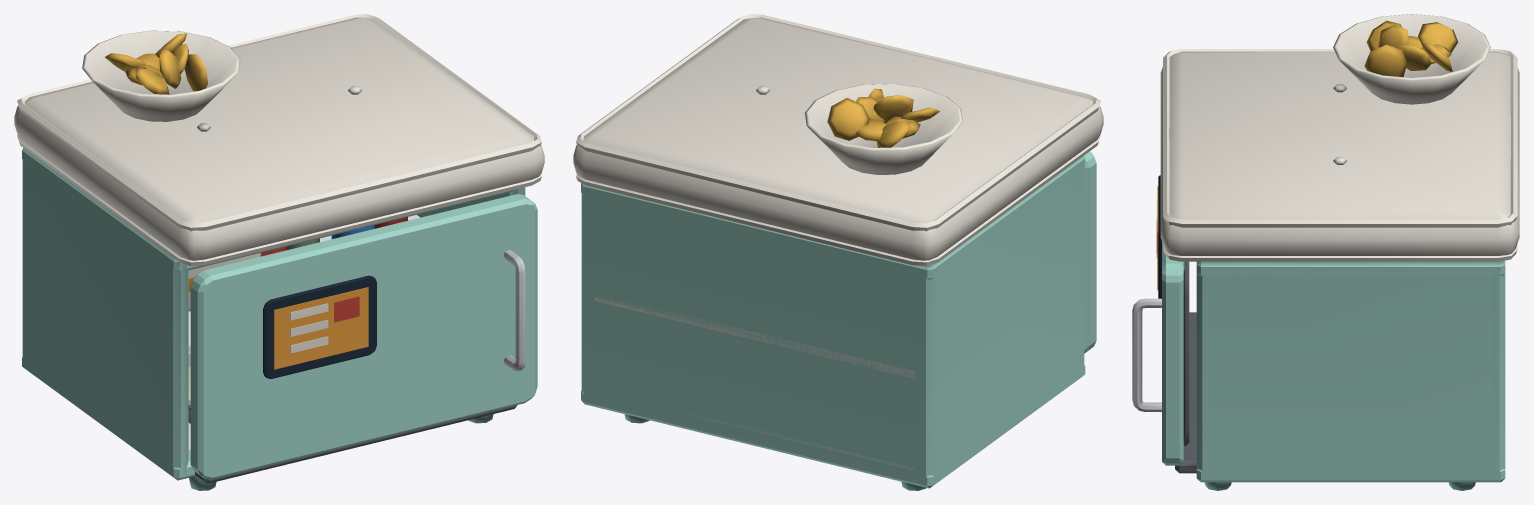
Rendered from snackFridge.glb.
3 renders of one model, left to right at view 1: azimuth 30°, elevation 25°; view 2: azimuth 150°, elevation 25°; view 3: azimuth 270°, elevation 25°, orthographic.
Parts seen in each view (by area): view 1: body, door; view 2: body, door; view 3: body, door.
Part boxes in pixels (box(x1,y1,x2,y2)): body: box(14, 14, 544, 490); door: box(190, 194, 537, 479); body: box(573, 14, 1103, 490); door: box(1084, 151, 1096, 353); body: box(1160, 14, 1519, 490); door: box(1132, 175, 1189, 465).
Bounding box in the file's own units: 0.58 × 0.5378 × 0.5395.
